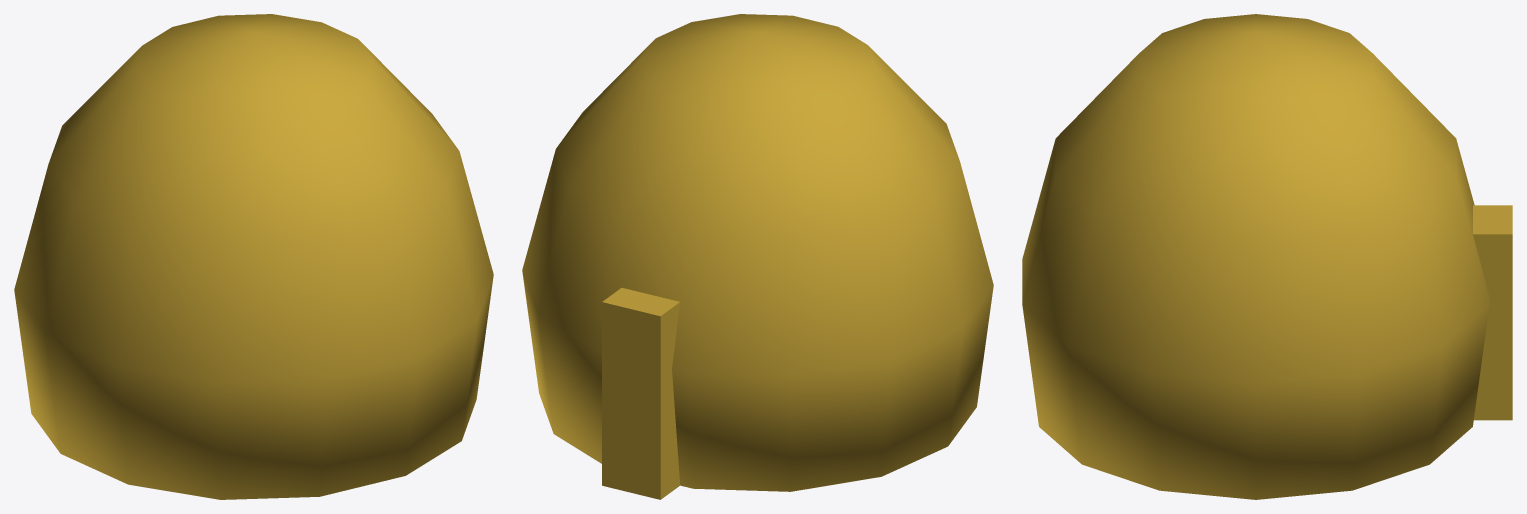
Rendered from mining_helmet.glb.
3 renders of one model, left to right at view 1: azimuth 30°, elevation 25°; view 2: azimuth 150°, elevation 25°; view 3: azimuth 270°, elevation 25°, orthographic.
Parts seen in each view (by area): view 1: mining_helmet_v0; view 2: mining_helmet_v0; view 3: mining_helmet_v0.
Boxes of the visible parts, box(x1,y1,x2,y2) form: mining_helmet_v0: box(14, 14, 493, 499); mining_helmet_v0: box(522, 14, 993, 499); mining_helmet_v0: box(1022, 14, 1512, 499).
Size of the model in its own units: 0.28 by 0.24 by 0.2865.
